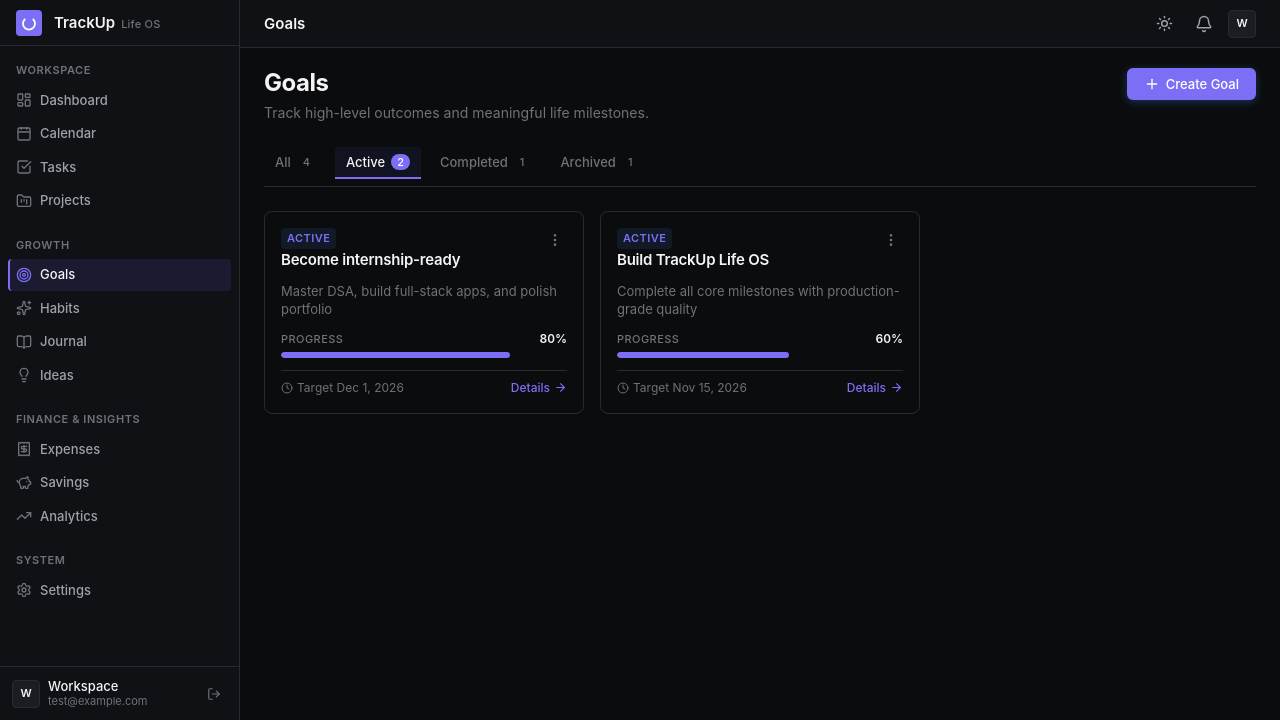
Scenario: Milestone 4: Goals Vertical Slice & Dashboard Integration › filters goals by status tabs (Completed, Archived, All)
Check: the heading "Become internship-ready" is shown, box [281,250,460,268]
// Click Completed filter
Click the tab "Completed 1".
click(485, 163)  # box [429,147,541,179]
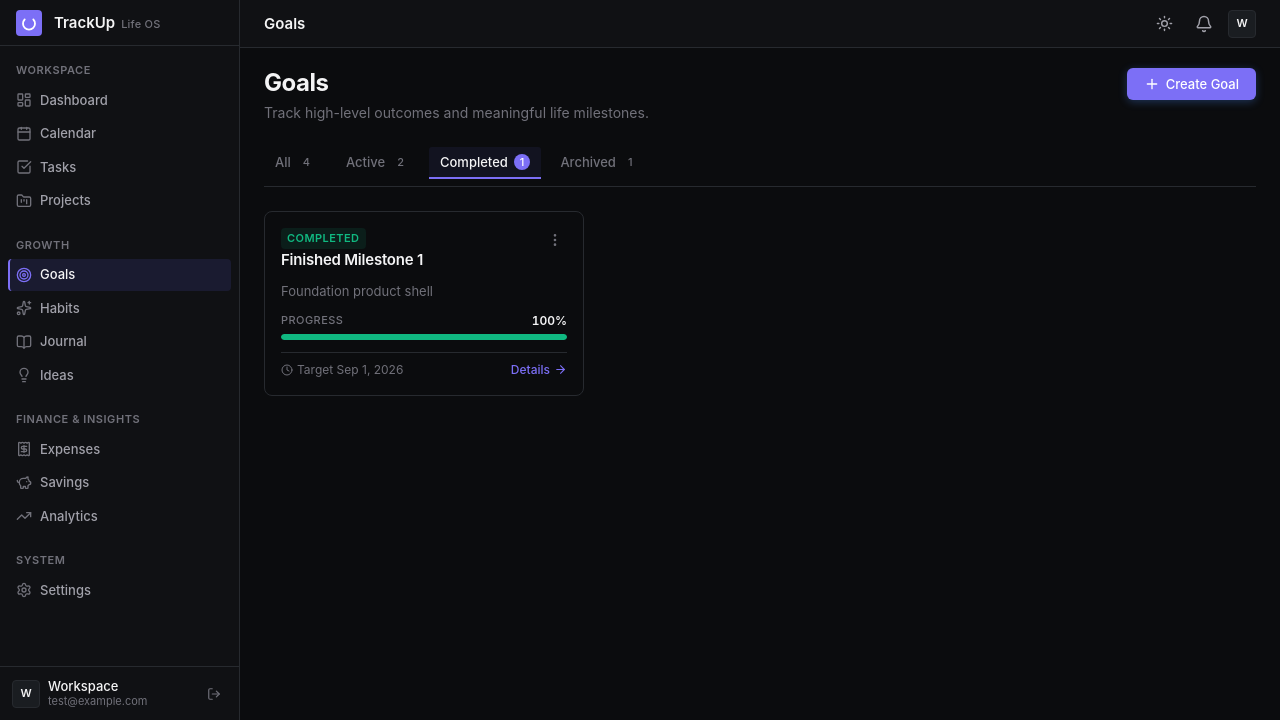
Check: the heading "Finished Milestone 1" is shown, box [281,250,423,268]
Check: the link "Become internship-ready" is gone
// Click Archived filter
Click the tab "Archived 1".
click(599, 163)  # box [549,147,650,179]
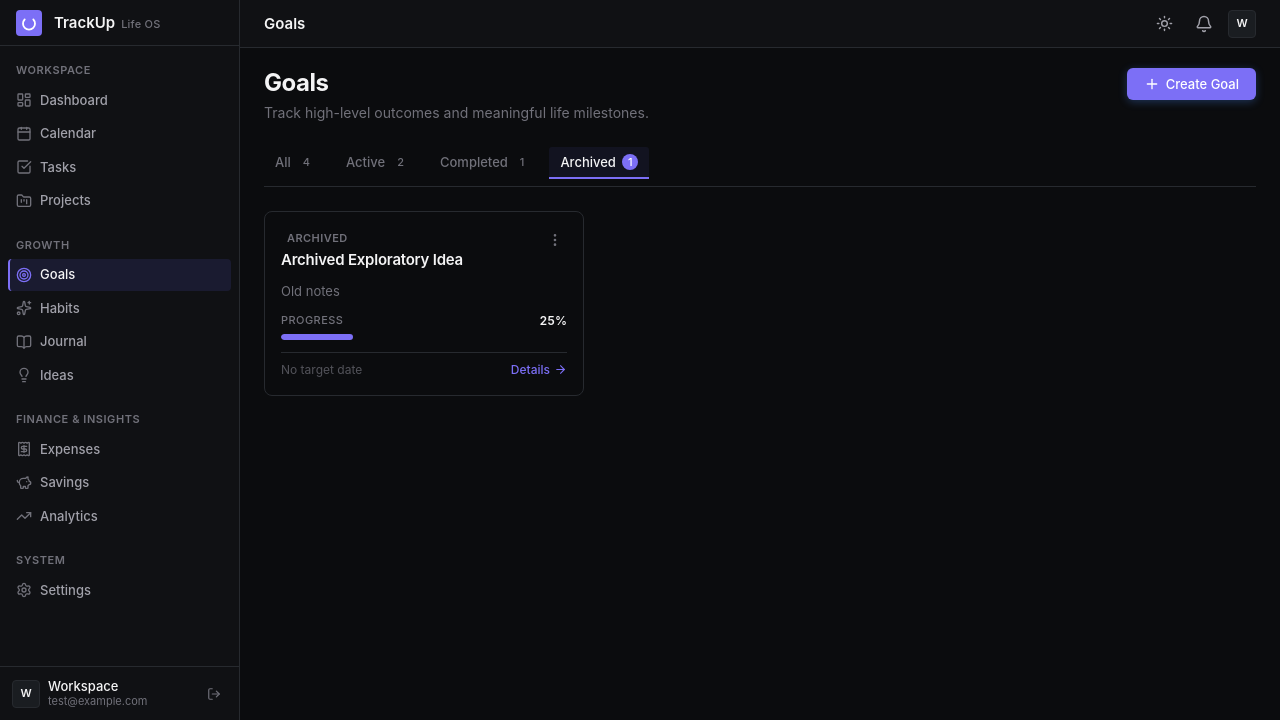
Check: the heading "Archived Exploratory Idea" is shown, box [281,250,463,268]
Check: the link "Finished Milestone 1" is gone
// Click All filter
Click the tab "All 4".
click(296, 163)  # box [264,147,327,179]
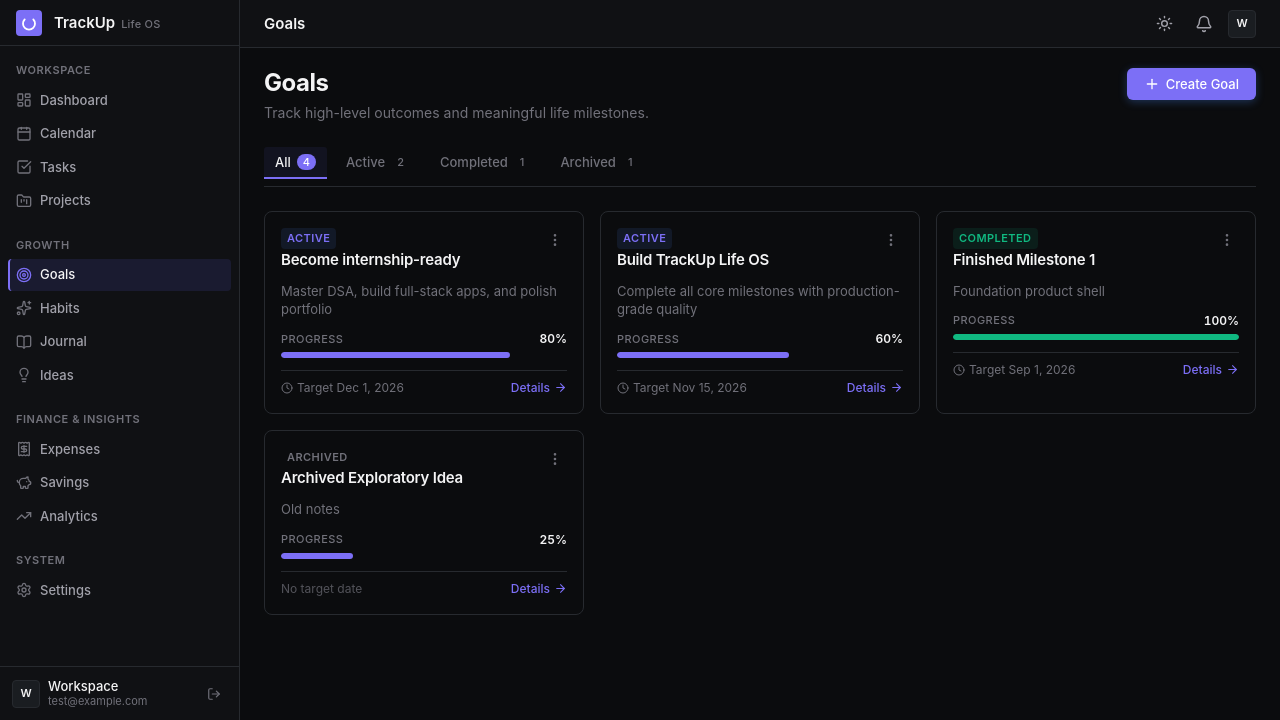
Check: the heading "Archived Exploratory Idea" is shown, box [281,468,463,487]
Check: the heading "Become internship-ready" is shown, box [281,250,460,268]
Check: the heading "Finished Milestone 1" is shown, box [953,250,1095,268]
